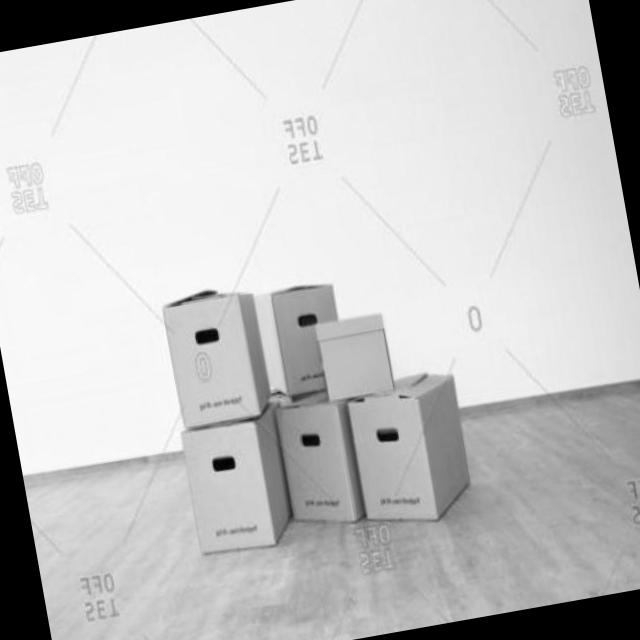box: (344, 370, 478, 532), (172, 410, 296, 559), (154, 272, 266, 430), (267, 387, 363, 535), (252, 274, 356, 408), (310, 299, 400, 412)
